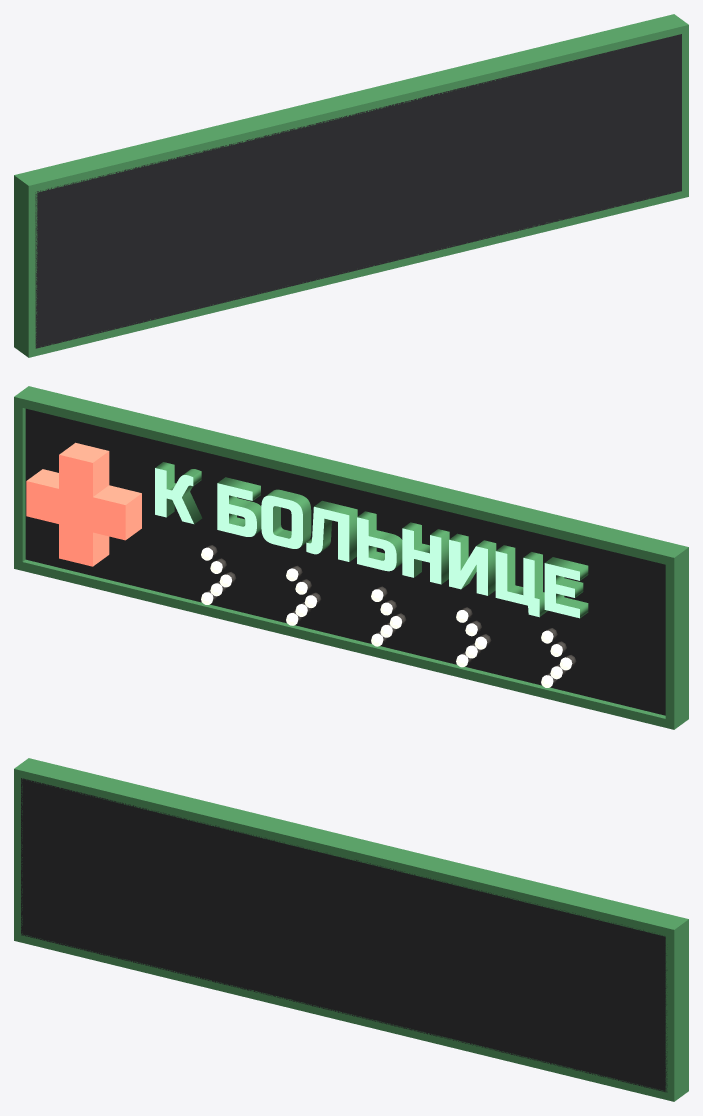
Rendered from to_hospital.glb.
3 renders of one model, top to bottom at view 1: azimuth 30°, elevation 25°; view 2: azimuth 150°, elevation 25°; view 3: azimuth 330°, elevation 25°, orthographic.
Parts seen in each view (by area): view 1: Sign; view 2: Sign, BulbsA, BulbsB; view 3: Sign.
Part boxes in pixels (x1,y1,x2,y2): Sign: (14,14,688,357); Sign: (14,386,688,729); BulbsA: (201,547,572,687); BulbsB: (286,568,487,667); Sign: (14,758,688,1101).
Bounding box in the file's own units: 4.66 × 1.16 × 0.34.
